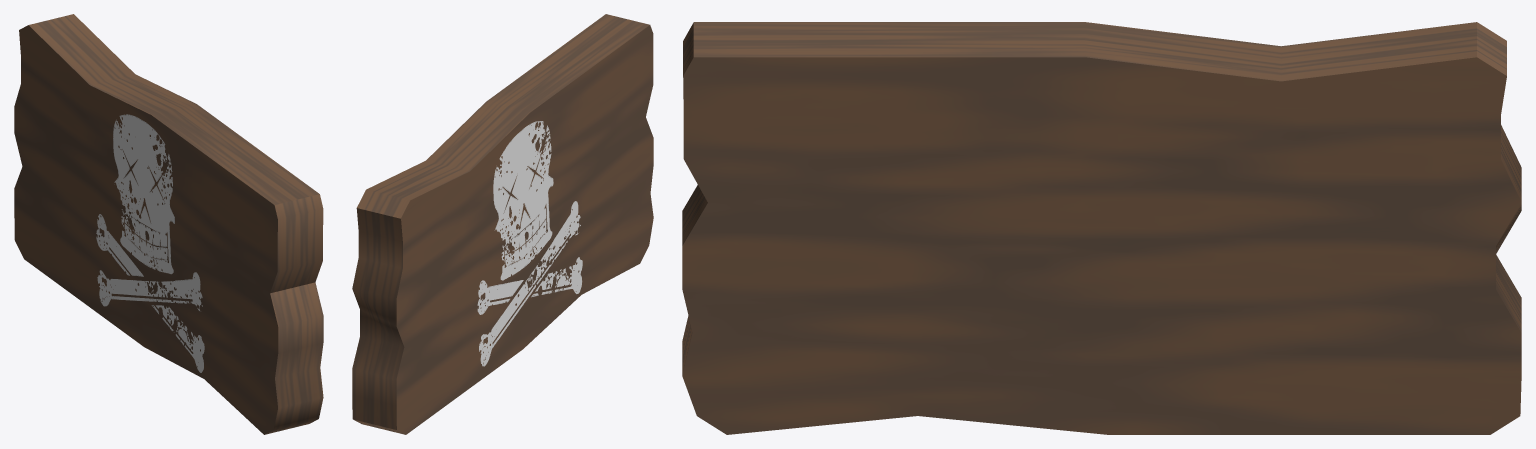
File: GAMEJAMPUFFER - SignPaintSkull.fbx
The picture shows the model from 3 angles, left to right: view 1: azimuth 30°, elevation 25°; view 2: azimuth 150°, elevation 25°; view 3: azimuth 270°, elevation 25°; orthographic projection. The views are drawn at different scales.
Visible parts, largest first — view 1: Skull Sign; view 2: Skull Sign; view 3: Skull Sign.
Part boxes in pixels (bbox=[...]): Skull Sign: bbox=[14, 14, 323, 434]; Skull Sign: bbox=[352, 14, 653, 434]; Skull Sign: bbox=[682, 22, 1521, 434].
Size of the model in its own units: 8.81 by 45.5 by 86.99.
Materials: 2 (2 with a texture image).
